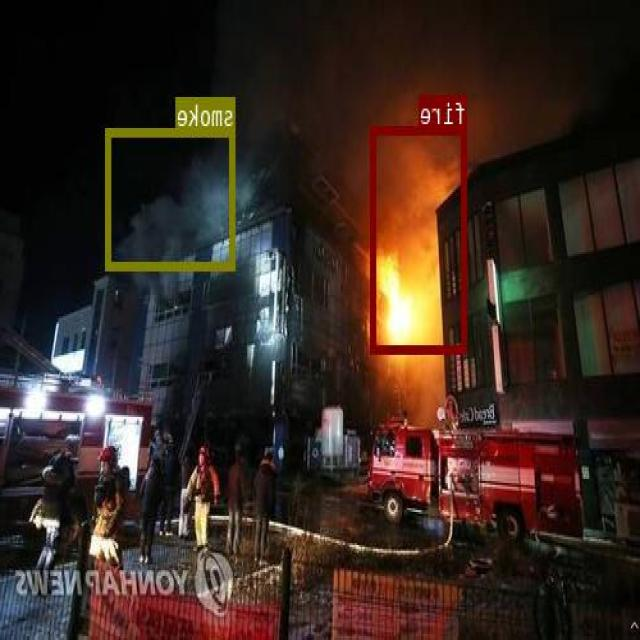fire: (372, 126, 468, 352)
smoke: (107, 128, 236, 268)
